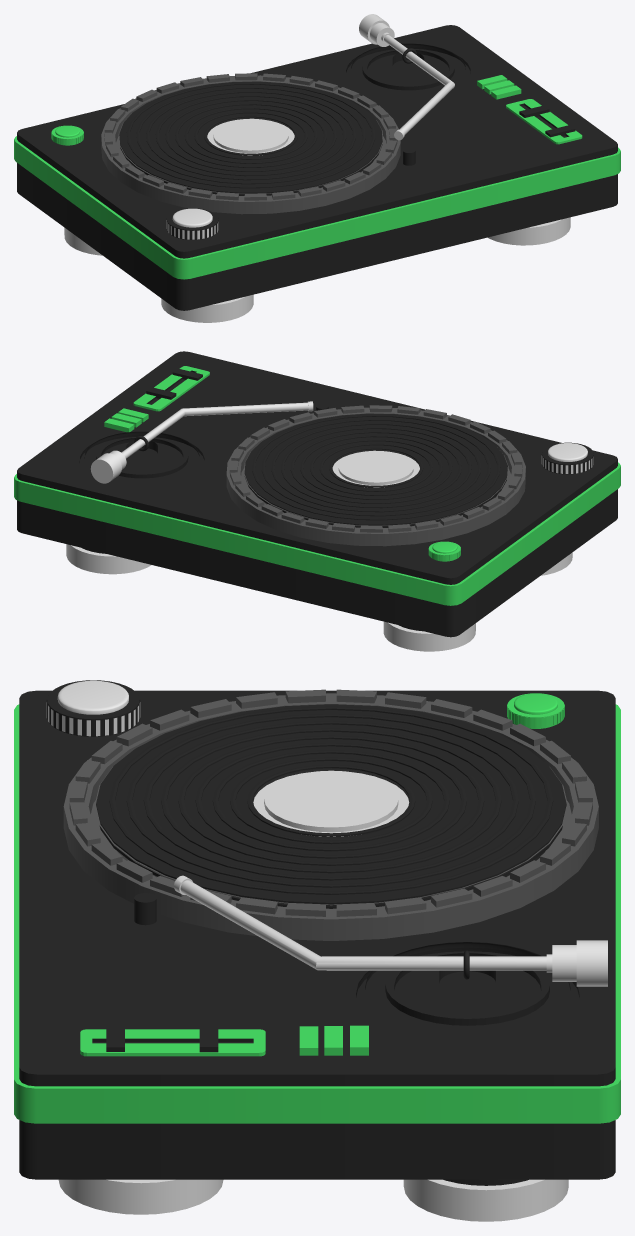
The model's file is Toca-disco.glb.
3 renders of one model, top to bottom at view 1: azimuth 30°, elevation 25°; view 2: azimuth 150°, elevation 25°; view 3: azimuth 270°, elevation 25°, orthographic. The views are drawn at different scales.
Visible parts, largest first — view 1: Cube_0, Cylinder.001_2, Cube.002_9, Cylinder_1, Cylinder.002_16, Vert_11, Cylinder.008_7, Cylinder.005_4, Cylinder.010_12, Cylinder.006_5, Cube.001_8, Cylinder.009_10; view 2: Cube_0, Cylinder.001_2, Cube.002_9, Cylinder_1, Cylinder.002_16, Vert_11, Cylinder.004_3, Cylinder.008_7, Cylinder.007_6, Cylinder.010_12, Cube.001_8, Cylinder.009_10; view 3: Cube_0, Cylinder.001_2, Cylinder_1, Cylinder.002_16, Cube.002_9, Vert_11, Cylinder.007_6, Cylinder.006_5, Cylinder.008_7, Cube.001_8, Cylinder.010_12, Cylinder.009_10.
Part boxes in pixels (left/top/right/bottom): Cube_0: left=17, top=25, right=617, bottom=310; Cylinder.001_2: left=119, top=81, right=382, bottom=195; Cube.002_9: left=14, top=136, right=620, bottom=279; Cylinder_1: left=101, top=73, right=400, bottom=214; Cylinder.002_16: left=126, top=82, right=375, bottom=188; Vert_11: left=359, top=14, right=454, bottom=140; Cylinder.008_7: left=166, top=208, right=218, bottom=239; Cylinder.005_4: left=161, top=294, right=253, bottom=322; Cylinder.010_12: left=346, top=43, right=470, bottom=90; Cylinder.006_5: left=488, top=217, right=570, bottom=245; Cube.001_8: left=506, top=99, right=582, bottom=144; Cylinder.009_10: left=51, top=125, right=83, bottom=145; Cube_0: left=17, top=351, right=617, bottom=637; Cylinder.001_2: left=244, top=413, right=507, bottom=527; Cube.002_9: left=14, top=462, right=620, bottom=605; Cylinder_1: left=226, top=405, right=525, bottom=546; Cylinder.002_16: left=252, top=414, right=500, bottom=520; Vert_11: left=90, top=401, right=313, bottom=483; Cylinder.004_3: left=383, top=621, right=475, bottom=651; Cylinder.008_7: left=541, top=442, right=593, bottom=474; Cylinder.007_6: left=66, top=544, right=151, bottom=574; Cylinder.010_12: left=79, top=431, right=204, bottom=478; Cube.001_8: left=133, top=366, right=209, bottom=411; Cylinder.009_10: left=428, top=541, right=460, bottom=561; Cube_0: left=19, top=690, right=615, bottom=1179; Cylinder.001_2: left=96, top=704, right=566, bottom=908; Cylinder_1: left=63, top=689, right=598, bottom=940; Cylinder.002_16: left=109, top=706, right=553, bottom=894; Cube.002_9: left=14, top=704, right=620, bottom=1123; Vert_11: left=174, top=875, right=607, bottom=986; Cylinder.007_6: left=403, top=1179, right=568, bottom=1221; Cylinder.006_5: left=58, top=1179, right=223, bottom=1214; Cylinder.008_7: left=46, top=680, right=140, bottom=736; Cube.001_8: left=80, top=1029, right=265, bottom=1056; Cylinder.010_12: left=356, top=942, right=579, bottom=1025; Cylinder.009_10: left=507, top=693, right=564, bottom=728.
Size of the model in its own units: 3.43 by 0.9233 by 2.27.
